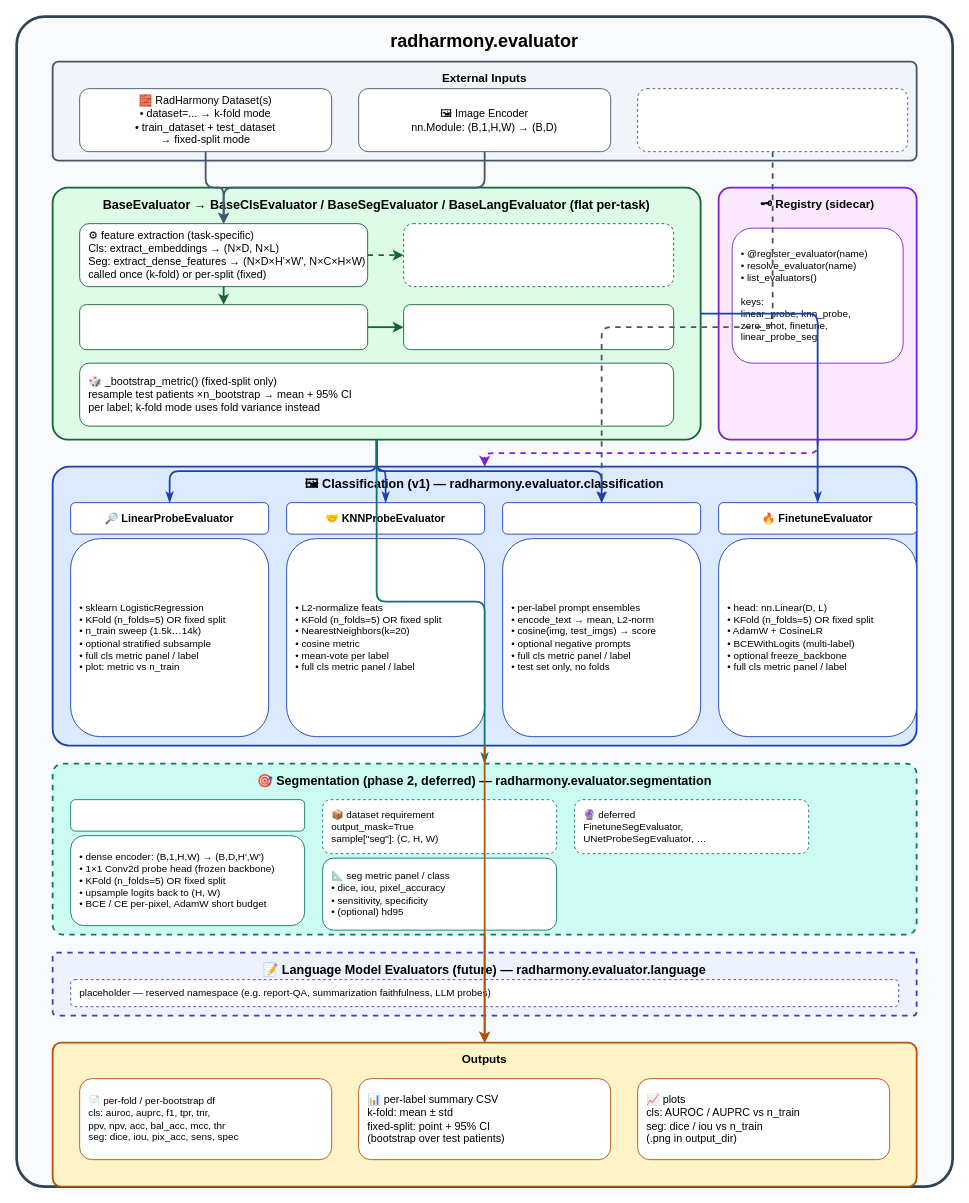
This 969x1203 diagram has some shape labels left out. Here are the shapes that lost their labels. From the top down, the centre of each, then its label:
At pixel 772 120: "📝 Text Encoder (zero-shot only) list[str] → (T,D) + tokenizer".
At pixel 538 255: "💾 embedding_cache pickle (feats, labels) skip re-extraction next run".
At pixel 223 327: "🧪 evaluate() [abstract] subclass-specific algorithm".
At pixel 538 327: "💽 save_results() CSVs + plots to output_dir".
At pixel 601 518: "🔤 ZeroShotEvaluator".
At pixel 187 815: "🧩 LinearProbeSegEvaluator".
